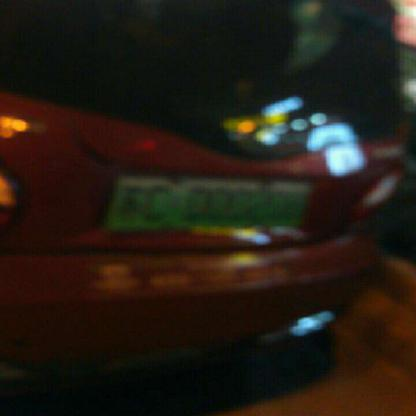lp: (107, 176, 311, 229)
